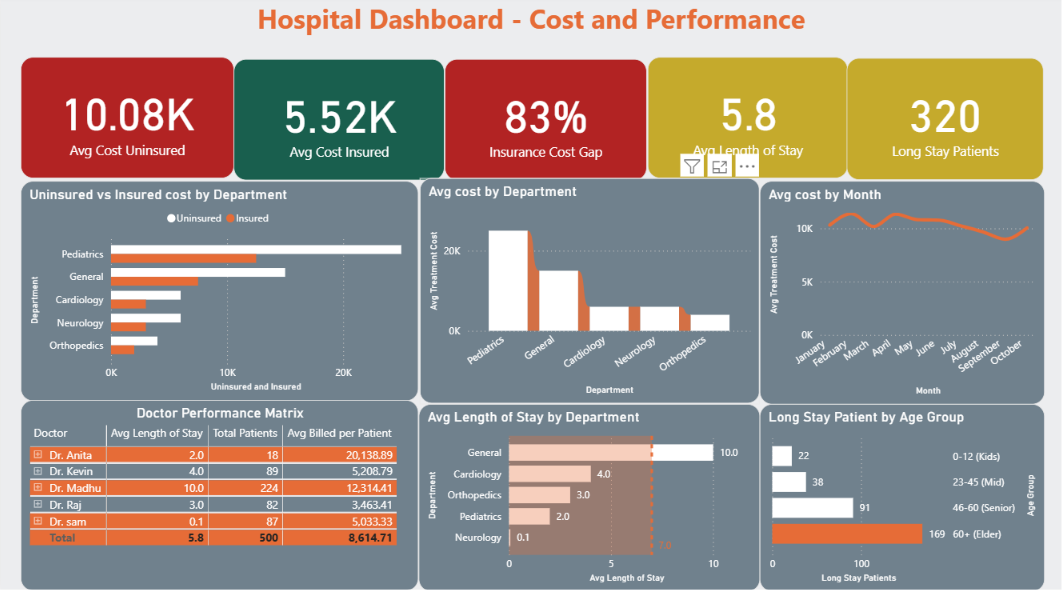

The dashboard page shown, as its layout file describes it:
{"tool":"powerbi","page":{"name":"Page 2","canvas":[1280,720],"ordinal":1},"visuals":[{"type":"card","fields":{"Values":["Hospital_Patient.Avg Cost Uninsured"]},"box":[24,73.3,257.3,146.7],"z":0},{"type":"card","fields":{"Values":["Hospital_Patient.Avg Cost Insured"]},"box":[281.3,76,254.7,146.7],"z":1000},{"type":"card","fields":{"Values":["Hospital_Patient.Insurance Cost Gap"]},"box":[536,76,244,146.7],"z":2000},{"type":"card","fields":{"Values":["Hospital_Patient.Avg Length of Stay"]},"box":[780.6,73.6,240.1,146],"z":3000},{"type":"card","fields":{"Values":["Hospital_Patient.Long Stay Patients"]},"box":[1020.6,73.6,238.9,146],"z":4000},{"type":"clusteredBarChart","title":"Uninsured vs Insured cost by Department","fields":{"Y":["Hospital_Patient.Avg Cost Uninsured","Hospital_Patient.Avg Cost Insured"],"Category":["Hospital_Patient.Department"]},"box":[24,222.7,480,265.3],"z":5000},{"type":"columnChart","title":"Avg cost by Department","fields":{"Category":["Hospital_Patient.Department"],"Y":["Hospital_Patient.Avg Treatment Cost"]},"box":[505.3,220,410.7,272],"z":6000},{"type":"lineChart","title":"Avg cost by Month","fields":{"Category":["Hospital_Patient.AdmissionDate.Variation.Date Hierarchy.Month"],"Y":["Hospital_Patient.Avg Treatment Cost"]},"box":[916,222.7,344,269.3],"z":7000},{"type":"pivotTable","title":"Doctor Performance Matrix","fields":{"Rows":["Hospital_Patient.Doctor","Hospital_Patient.Department"],"Values":["Hospital_Patient.Avg Length of Stay","Hospital_Patient.Total Patients","Hospital_Patient.Avg Billed per Patient"]},"box":[24,488,480,230.7],"z":8000},{"type":"clusteredBarChart","title":"Avg Length of Stay by Department","fields":{"Category":["Hospital_Patient.Department"],"Y":["Hospital_Patient.Avg Length of Stay"]},"box":[504,492,412,226.7],"z":9000},{"type":"clusteredBarChart","title":"Long Stay Patient by Age Group","fields":{"Y":["Hospital_Patient.Long Stay Patients"],"Category":["Hospital_Patient.AgeGroup"]},"box":[916,492,344,226.7],"z":10000},{"type":"textbox","box":[0,0,1280,56.7],"z":11000}]}

Visuals, with their boxes in screenshot pixels (x1, y1, x2, y2), scaled from the page's 1280x720 canvas onto the 1062x590 screenshot:
card - Hospital_Patient.Avg Cost Uninsured: BBox(20, 60, 233, 180)
card - Hospital_Patient.Avg Cost Insured: BBox(233, 62, 445, 182)
card - Hospital_Patient.Insurance Cost Gap: BBox(445, 62, 647, 182)
card - Hospital_Patient.Avg Length of Stay: BBox(648, 60, 847, 180)
card - Hospital_Patient.Long Stay Patients: BBox(847, 60, 1045, 180)
"Uninsured vs Insured cost by Department" clusteredBarChart: BBox(20, 182, 418, 400)
"Avg cost by Department" columnChart: BBox(419, 180, 760, 403)
"Avg cost by Month" lineChart: BBox(760, 182, 1045, 403)
"Doctor Performance Matrix" pivotTable: BBox(20, 400, 418, 589)
"Avg Length of Stay by Department" clusteredBarChart: BBox(418, 403, 760, 589)
"Long Stay Patient by Age Group" clusteredBarChart: BBox(760, 403, 1045, 589)
textbox: BBox(0, 0, 1061, 46)
